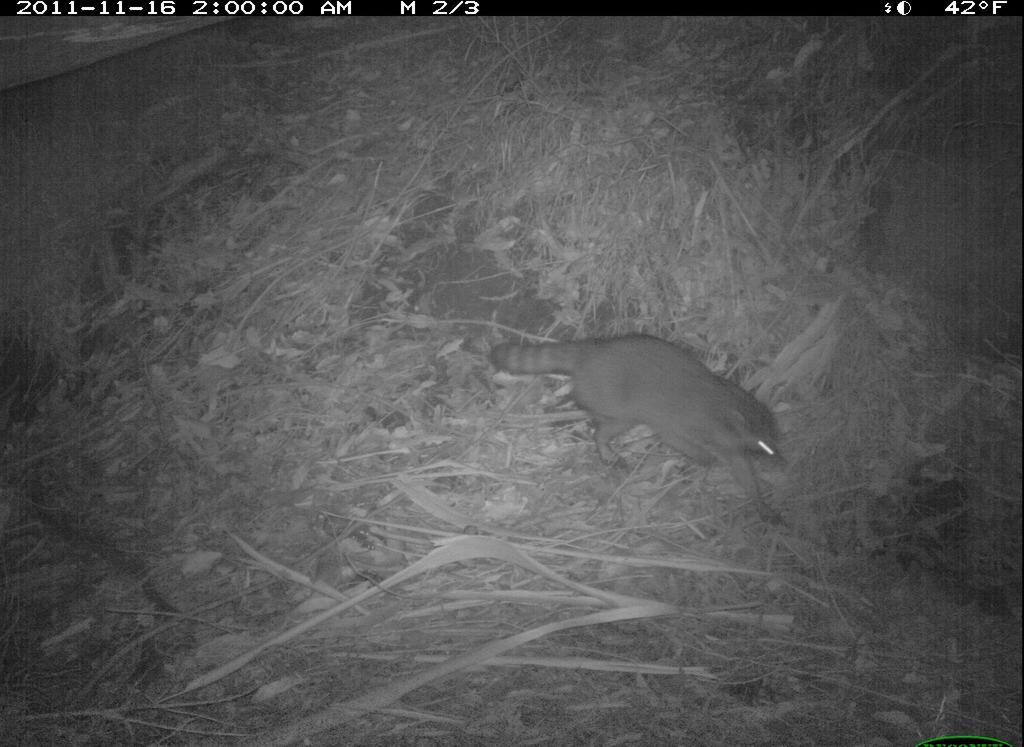raccoon: (482, 326, 803, 542)
